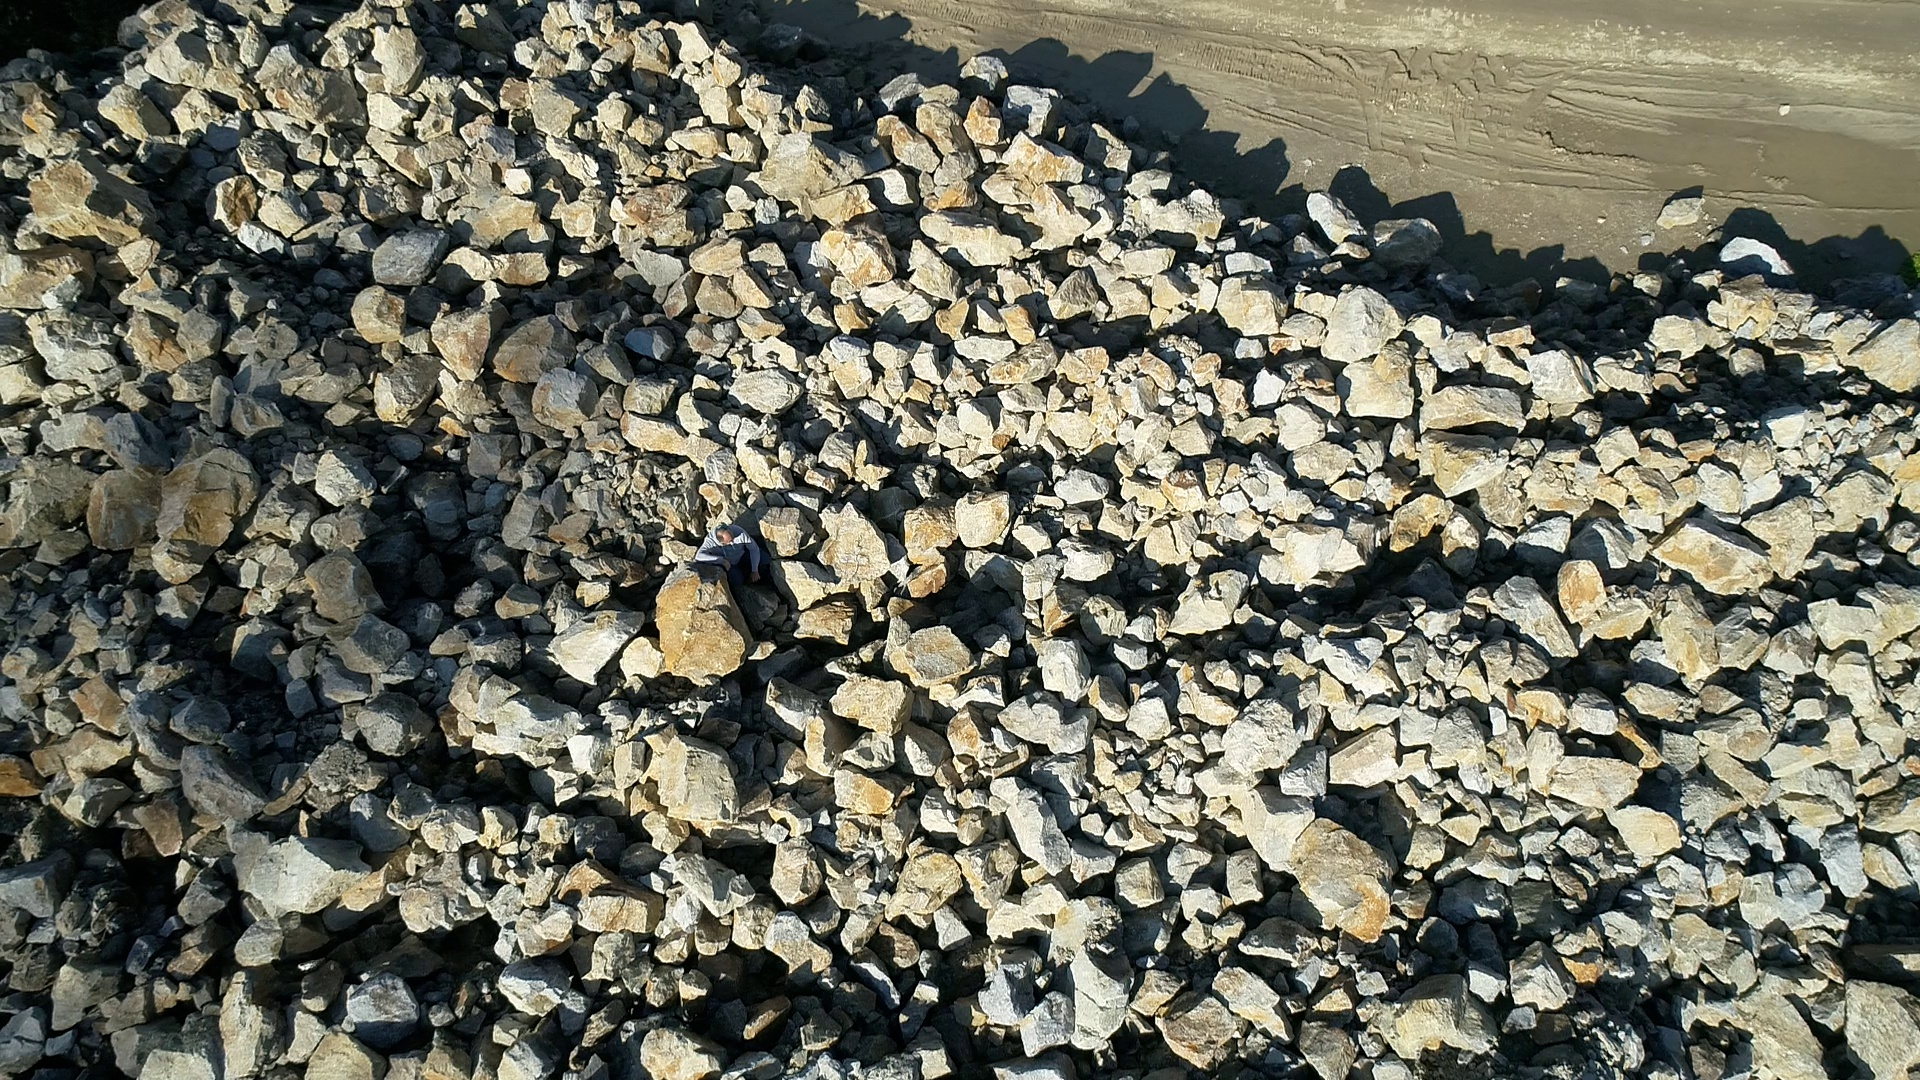person: (696, 522, 761, 582)
